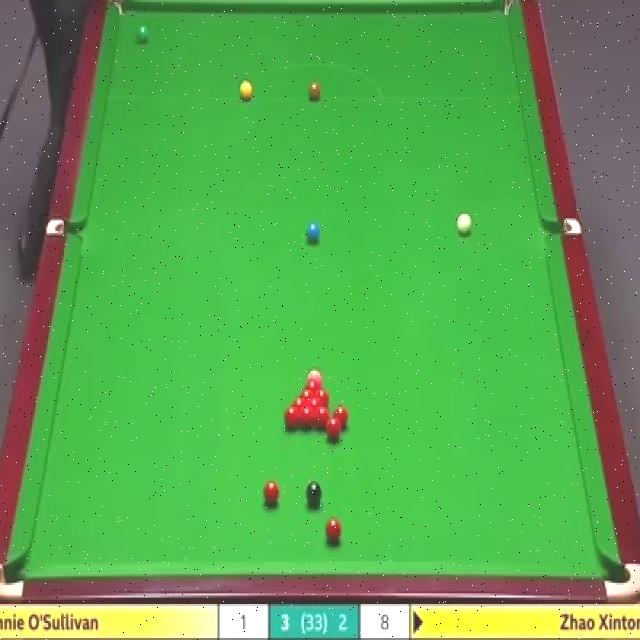black-ball: (306, 481, 323, 508)
blue-ball: (306, 222, 320, 243)
brown-ball: (308, 82, 321, 101)
green-ball: (136, 26, 148, 44)
pink-ball: (306, 367, 324, 381)
red-ball: (326, 516, 343, 544), (262, 480, 280, 506), (283, 405, 299, 429), (333, 405, 348, 430), (315, 406, 330, 430), (299, 405, 314, 428), (326, 418, 340, 442), (316, 387, 330, 405), (302, 377, 321, 387), (298, 388, 314, 398), (306, 398, 323, 407), (292, 397, 306, 407)
white-ball: (456, 211, 473, 239)
yellow-ball: (239, 80, 252, 100)
